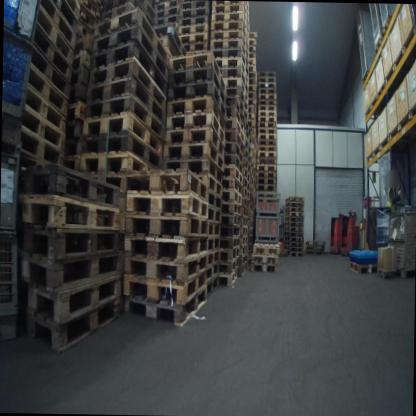pallet: (16, 296, 118, 354), (13, 273, 118, 323), (12, 224, 121, 271), (17, 164, 124, 211), (92, 7, 171, 70), (14, 249, 124, 294), (90, 39, 169, 99), (90, 26, 170, 83), (18, 192, 119, 233), (89, 58, 166, 111), (119, 287, 206, 333), (81, 95, 165, 138), (85, 79, 166, 122), (118, 249, 206, 285), (81, 113, 163, 151), (76, 131, 162, 167), (122, 232, 209, 266), (78, 151, 162, 185), (123, 270, 206, 303), (124, 208, 208, 239), (123, 189, 209, 218), (126, 171, 209, 201), (30, 23, 72, 80), (33, 6, 72, 64), (167, 50, 226, 88), (166, 93, 226, 130), (168, 64, 226, 102), (25, 87, 69, 137), (27, 63, 67, 118), (166, 80, 227, 115), (18, 125, 65, 168), (31, 44, 69, 96), (165, 126, 226, 157), (22, 104, 63, 150), (163, 143, 226, 171), (165, 113, 225, 141), (42, 0, 77, 45), (161, 160, 226, 184), (212, 56, 250, 87), (211, 47, 248, 75), (211, 21, 249, 46), (212, 5, 249, 30), (212, 39, 248, 64), (49, 0, 78, 31), (214, 68, 249, 93), (214, 77, 248, 102), (210, 31, 248, 53), (213, 14, 248, 36), (344, 259, 377, 280), (97, 0, 132, 19), (197, 275, 221, 300), (222, 86, 248, 109), (212, 0, 250, 15), (197, 174, 224, 194), (133, 0, 156, 23), (181, 39, 210, 56), (227, 96, 247, 120), (201, 262, 220, 286), (227, 102, 245, 127), (226, 129, 243, 155), (224, 118, 244, 140), (217, 256, 240, 275), (223, 141, 243, 162), (178, 14, 210, 27), (250, 242, 278, 256), (217, 246, 241, 262), (222, 175, 243, 193), (178, 7, 212, 18), (222, 163, 241, 182), (228, 110, 245, 131), (156, 6, 179, 21), (219, 225, 242, 240), (223, 199, 242, 217), (177, 33, 211, 43), (154, 0, 180, 13), (218, 271, 239, 287), (65, 0, 83, 18), (178, 23, 209, 33), (381, 17, 392, 45), (205, 251, 219, 273), (208, 206, 223, 226), (220, 189, 241, 203), (225, 155, 242, 172), (219, 237, 242, 249), (180, 0, 210, 9), (250, 256, 277, 266), (221, 212, 241, 225), (206, 221, 221, 238), (156, 14, 177, 25), (254, 184, 277, 194), (255, 171, 278, 181), (256, 178, 278, 188), (209, 193, 222, 209), (203, 238, 220, 250), (248, 266, 277, 273), (256, 166, 279, 174), (284, 204, 304, 213), (374, 36, 383, 54), (284, 214, 302, 223), (283, 195, 303, 203), (257, 82, 276, 90), (257, 157, 277, 164), (284, 210, 304, 217), (258, 71, 275, 79), (241, 186, 250, 201), (284, 201, 303, 208), (243, 130, 251, 146), (244, 138, 251, 156), (258, 94, 276, 101), (241, 168, 249, 183), (238, 253, 248, 265), (257, 152, 277, 158), (256, 145, 276, 151), (305, 239, 325, 245), (258, 128, 275, 135), (285, 251, 302, 258), (284, 220, 303, 226), (284, 236, 303, 242), (361, 70, 369, 84), (244, 121, 251, 137), (242, 177, 250, 191), (258, 140, 276, 146), (258, 111, 276, 117), (258, 106, 276, 112), (304, 245, 325, 250), (258, 122, 275, 128), (258, 117, 275, 123), (304, 250, 324, 255), (243, 157, 250, 171), (284, 226, 303, 231), (284, 231, 303, 236), (258, 101, 276, 106), (239, 265, 247, 276), (258, 135, 275, 140), (258, 78, 275, 83), (285, 246, 302, 251), (243, 148, 249, 162), (240, 244, 248, 253), (258, 90, 276, 94), (285, 242, 303, 246), (241, 208, 248, 218), (241, 197, 247, 208), (241, 226, 247, 237), (241, 218, 248, 226), (241, 237, 247, 244)
pallet_truck: (341, 208, 360, 260), (328, 205, 345, 258)
stillage: (3, 0, 46, 147), (0, 145, 26, 351), (385, 205, 415, 281), (252, 189, 281, 245)
